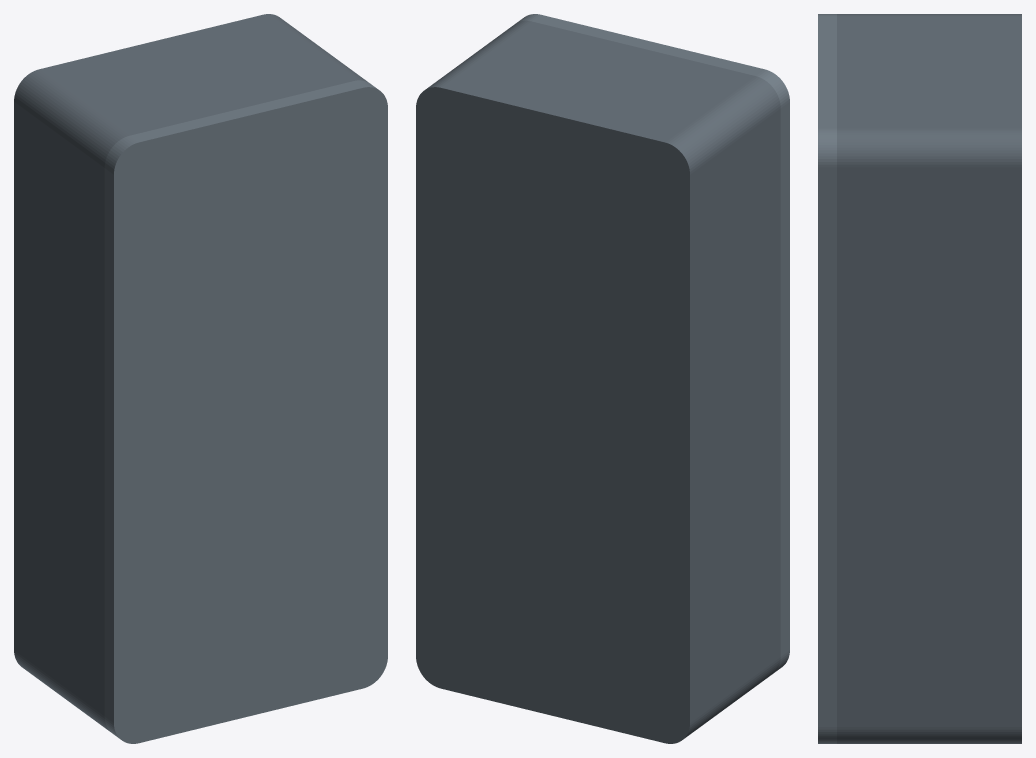
File: easyduino-pico_assembly.glb
The picture shows the model from 3 angles, left to right: view 1: azimuth 30°, elevation 25°; view 2: azimuth 150°, elevation 25°; view 3: azimuth 270°, elevation 25°; orthographic projection. The views are drawn at different scales.
Visible parts, largest first — view 1: lid, bottom; view 2: bottom, lid; view 3: bottom, lid.
Part boxes in pixels (x1,y1,x2,y2): lid: (104, 80, 387, 743); bottom: (14, 14, 368, 731); bottom: (416, 20, 780, 743); lid: (517, 14, 789, 671); bottom: (837, 14, 1021, 743); lid: (818, 14, 836, 743).
Size of the model in its own units: 27.4 by 57.4 by 17.3.
